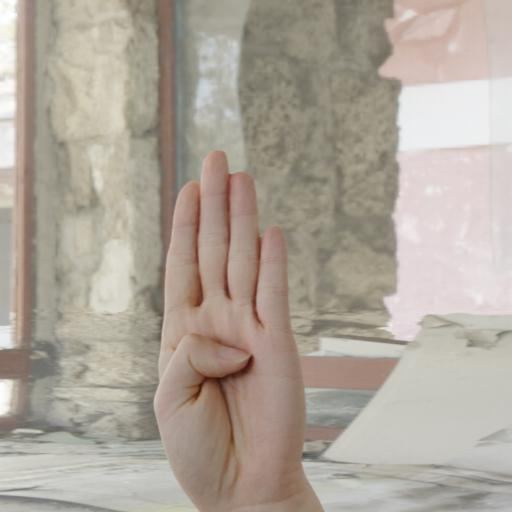B: (149, 148, 334, 504)
